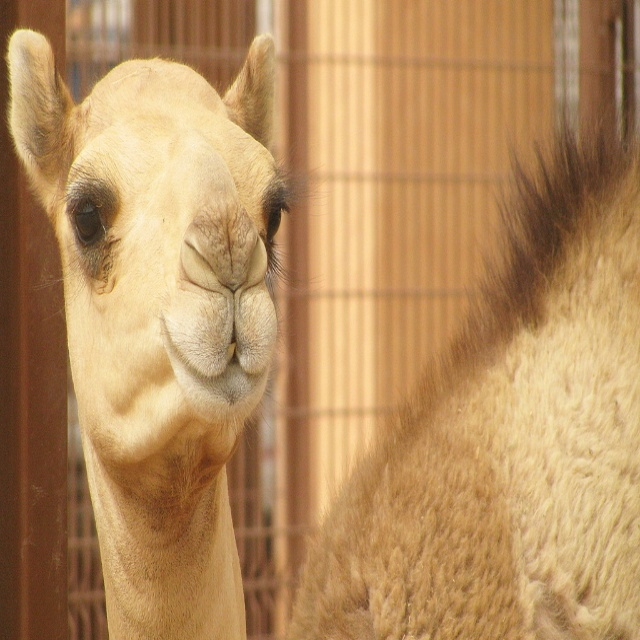Camel: (3, 24, 640, 640)
